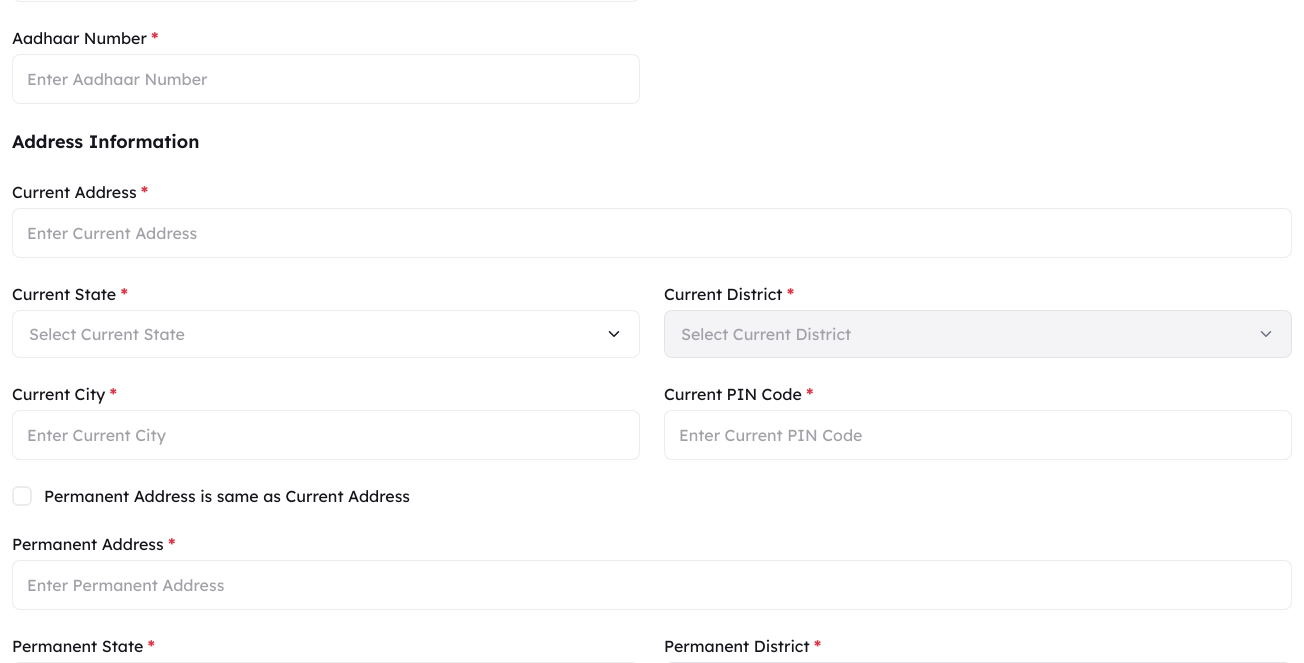
Scenario: PersonalInformationForm › drops a district that does not belong to the newly selected state
This screenshot has width=1304, height=663.
(page scrolled)
Click the button "Select Current State" at (107, 334), box 12,310 -> 640,358
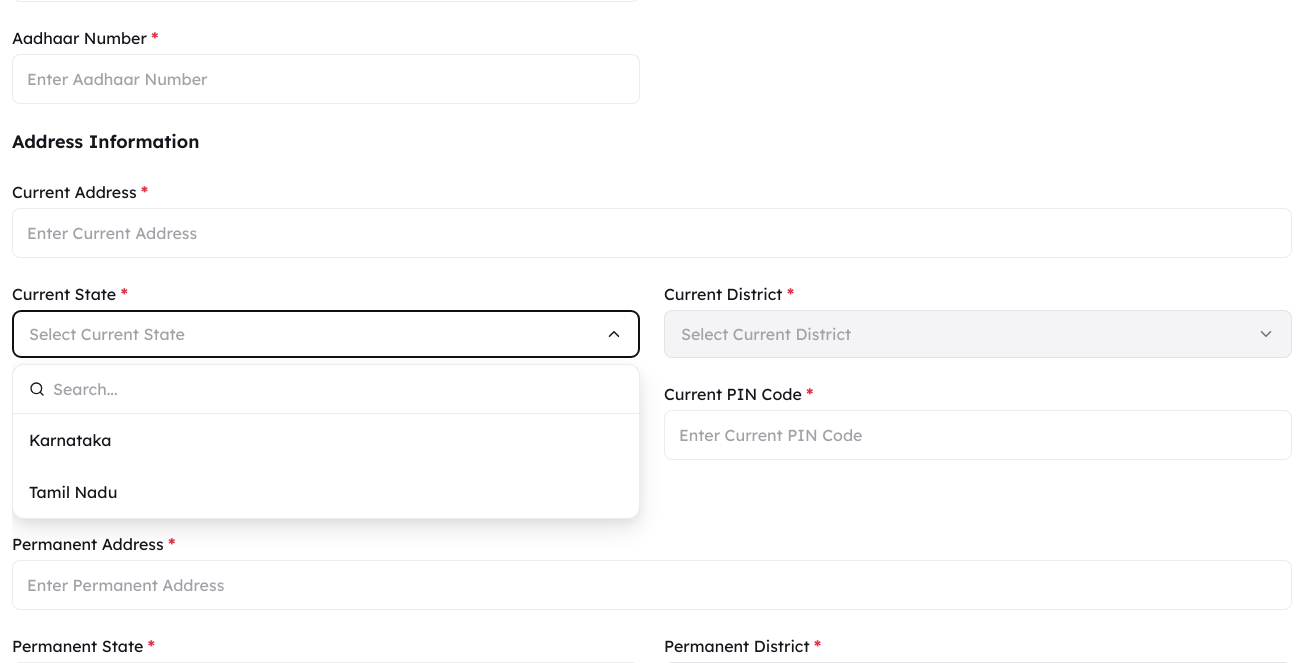
Click the button "Karnataka" at (70, 440), box 13,414 -> 639,466
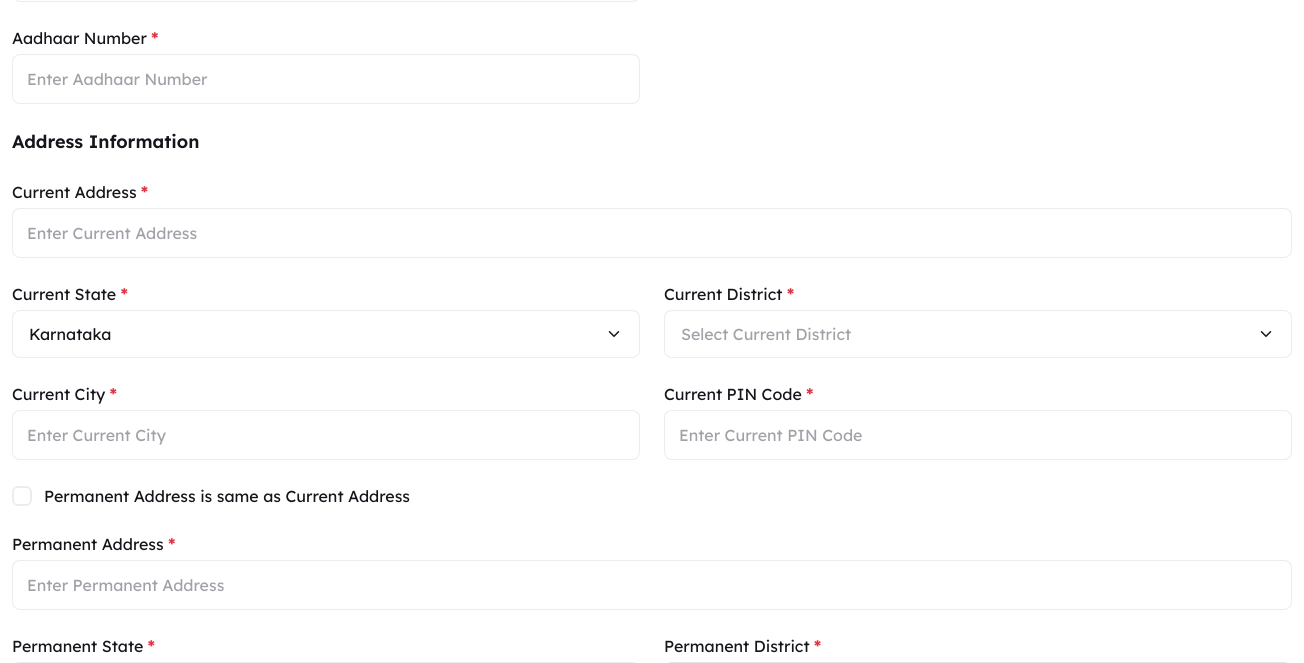
Click the button "Select Current District" at (766, 334), box 664,310 -> 1292,358
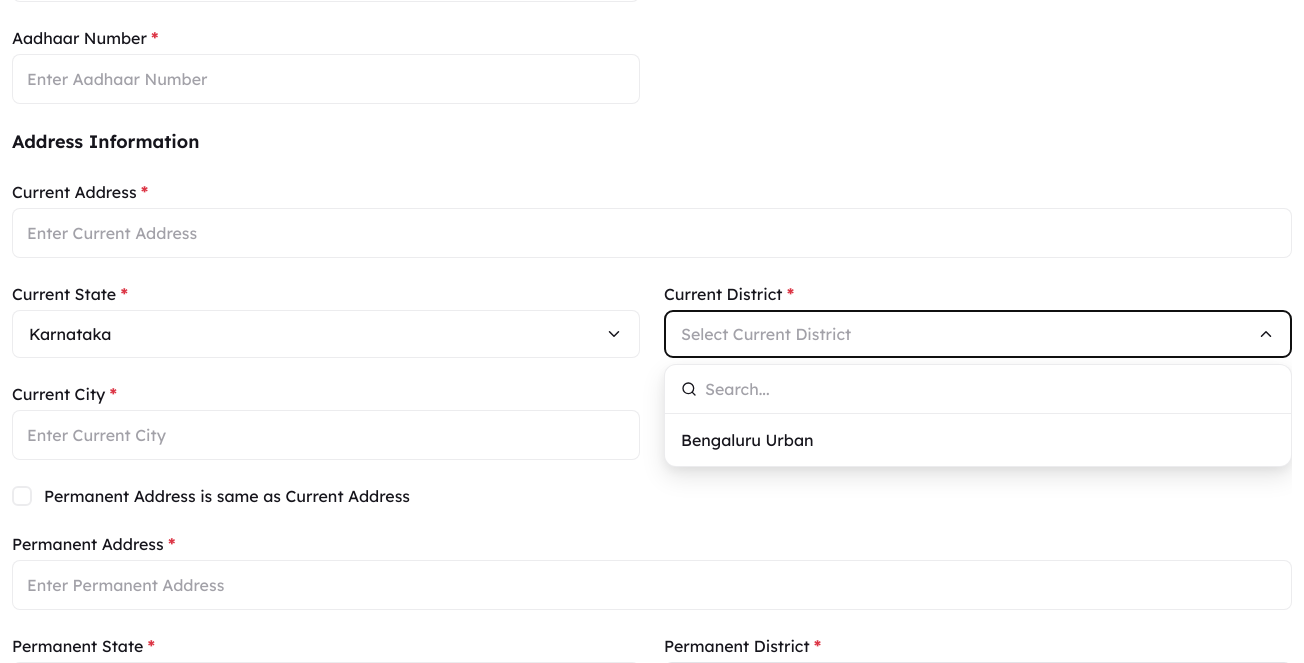
Click the button "Bengaluru Urban" at (747, 440), box 665,414 -> 1291,466
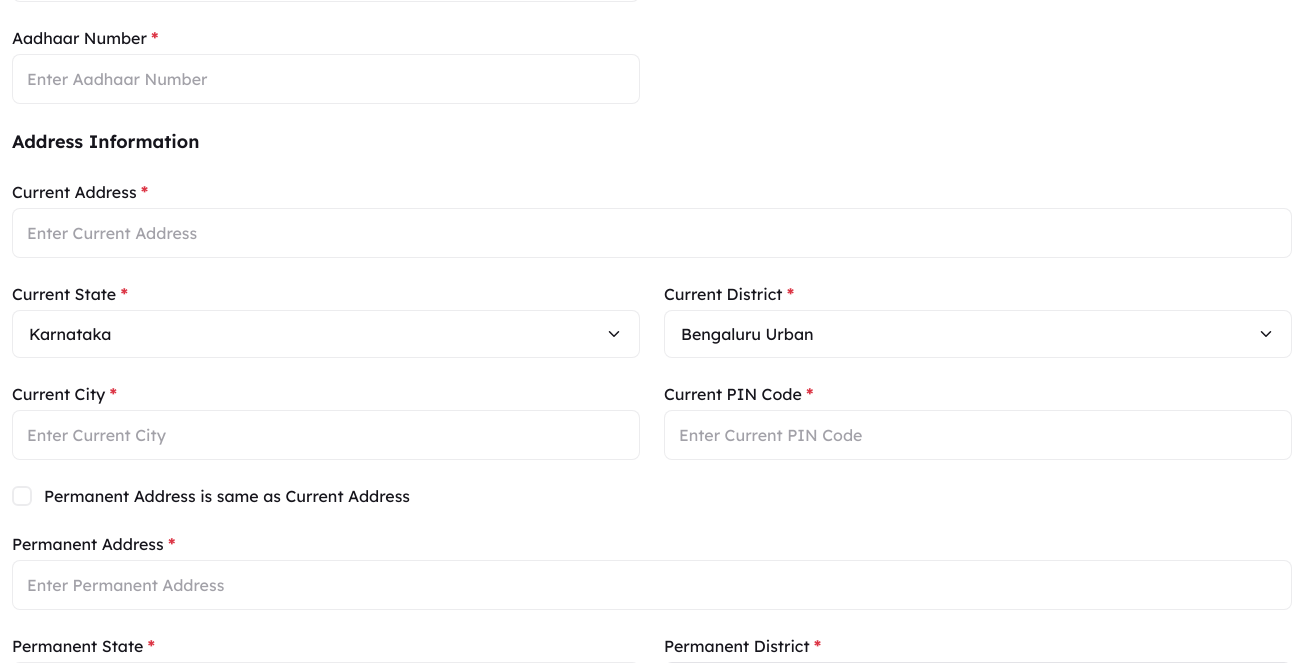
Click the button "Karnataka" at (70, 334), box 12,310 -> 640,358
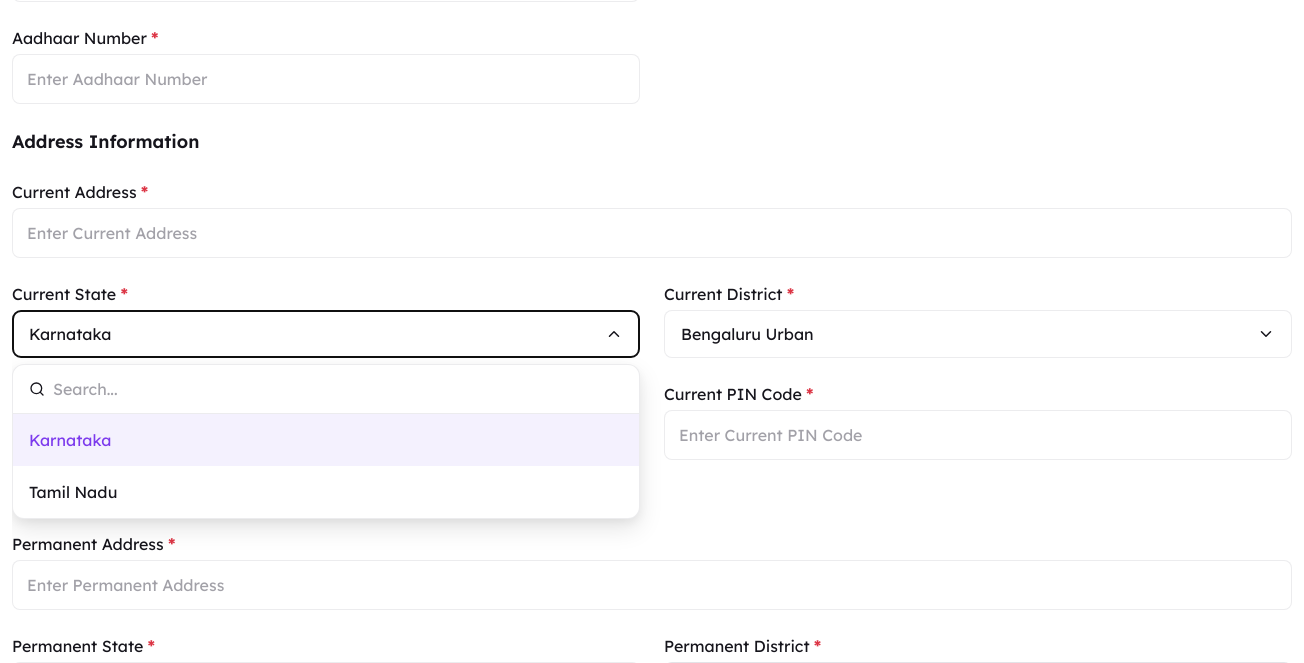
Click the button "Tamil Nadu" at (73, 492), box 13,466 -> 639,518
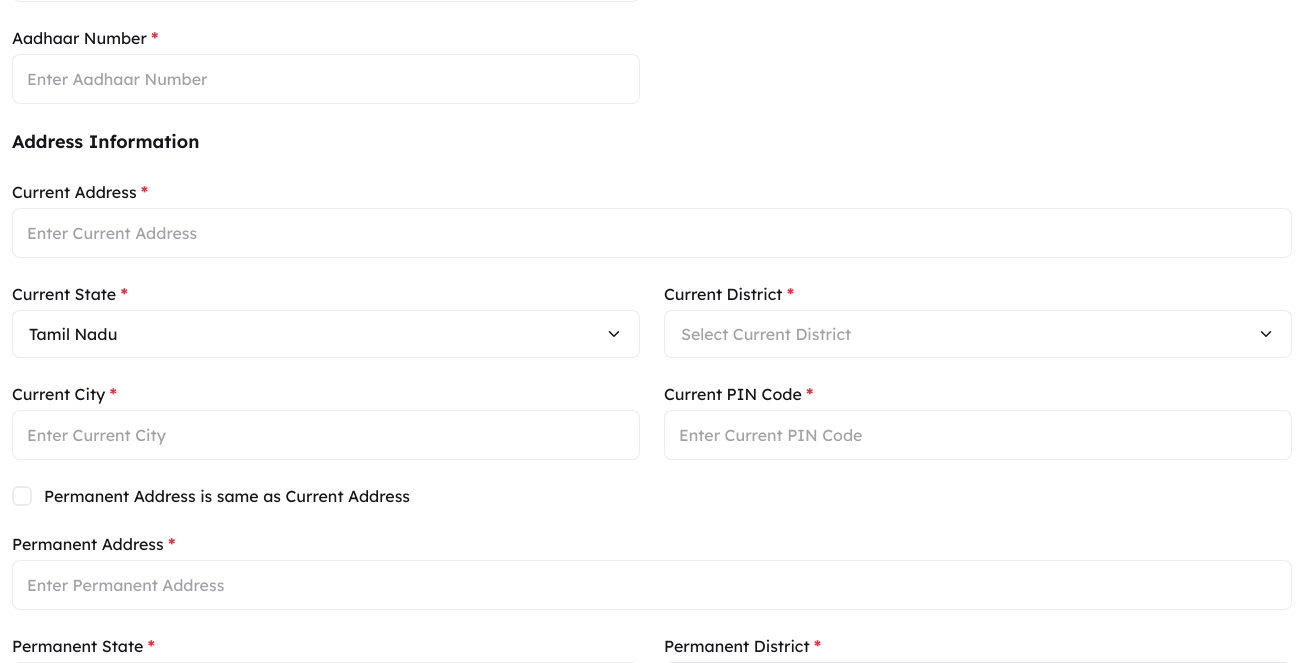
Expected: the button "Select Current District" is shown, 664,310 -> 1292,358
